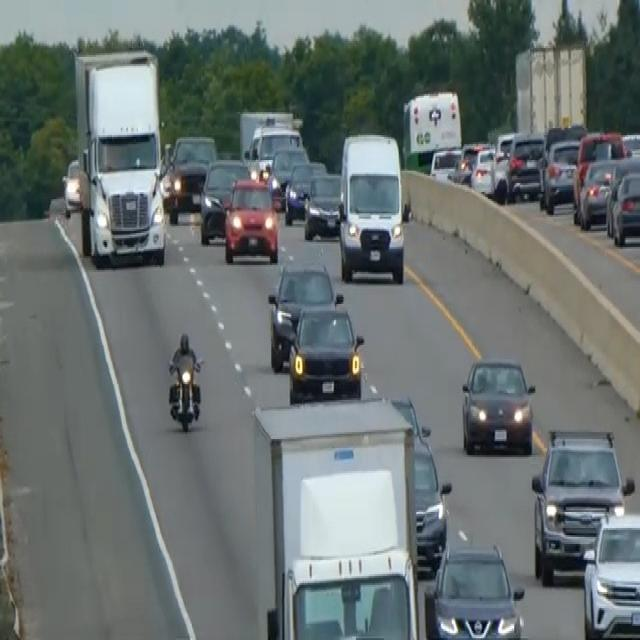car: (530, 425, 634, 585), (390, 394, 451, 572), (424, 539, 525, 638), (266, 258, 342, 370), (287, 300, 364, 402), (460, 354, 536, 455), (581, 510, 639, 638), (223, 174, 279, 265), (162, 132, 217, 222), (198, 154, 250, 243), (578, 155, 620, 229), (541, 137, 580, 213), (505, 130, 546, 201), (283, 158, 327, 224), (303, 171, 342, 240), (605, 167, 639, 245), (267, 143, 309, 205), (469, 144, 497, 196), (429, 144, 462, 183), (61, 156, 82, 217)
lorry: (72, 46, 168, 268)
minibus: (336, 130, 407, 284)
motorcycle: (165, 329, 205, 434)
